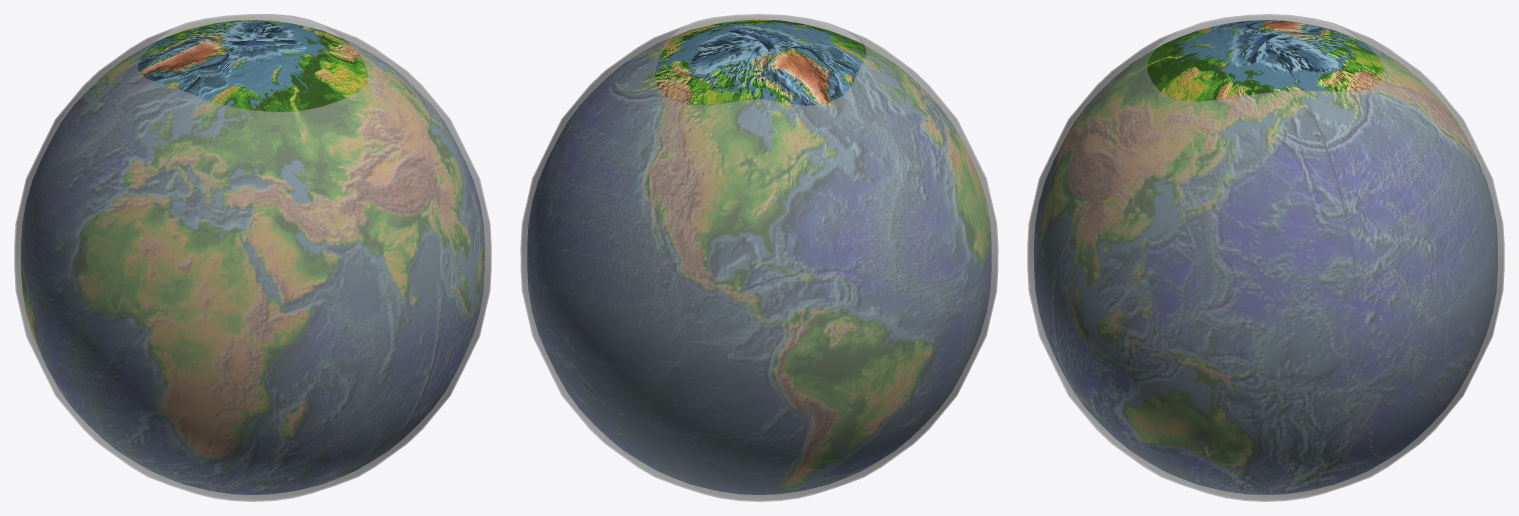
File: Earth and Ozone.fbx
3 renders of one model, left to right at view 1: azimuth 30°, elevation 25°; view 2: azimuth 150°, elevation 25°; view 3: azimuth 270°, elevation 25°, orthographic.
Parts seen in each view (by area): view 1: pSphere1, polySurface1; view 2: pSphere1, polySurface1; view 3: pSphere1, polySurface1.
Boxes of the visible parts, x1=… form: pSphere1: x1=21, y1=20, x2=484, y2=494; polySurface1: x1=14, y1=14, x2=491, y2=501; pSphere1: x1=527, y1=19, x2=991, y2=494; polySurface1: x1=520, y1=14, x2=998, y2=501; pSphere1: x1=1034, y1=20, x2=1497, y2=494; polySurface1: x1=1027, y1=14, x2=1504, y2=501.
Size of the model in its own units: 1062 by 1074 by 1057.
2 materials, 1 textured.
